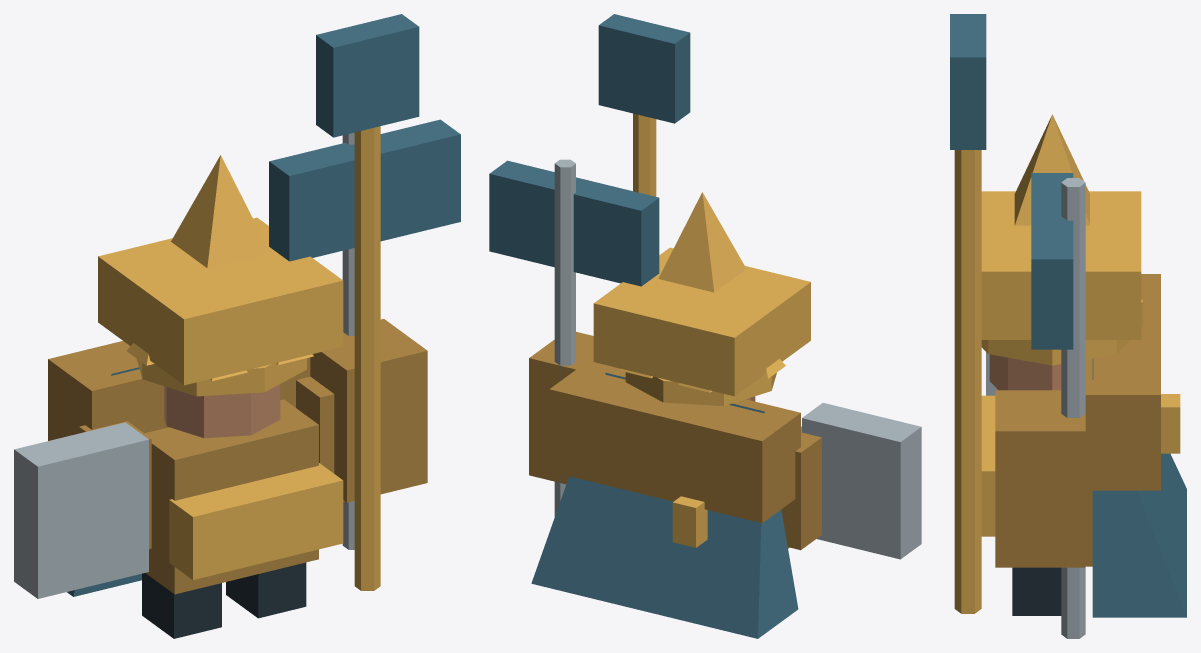
The model's file is healer.obj.
3 renders of one model, left to right at view 1: azimuth 30°, elevation 25°; view 2: azimuth 150°, elevation 25°; view 3: azimuth 270°, elevation 25°, orthographic. The views are drawn at different scales.
Visible parts, largest first — view 1: hero; view 2: hero; view 3: hero.
Part boxes in pixels (<box>): hero: <box>14,14,460,638</box>; hero: <box>489,14,921,638</box>; hero: <box>950,14,1186,638</box>.
Bounding box in the file's own units: 1.76 × 2.2 × 0.7866.
